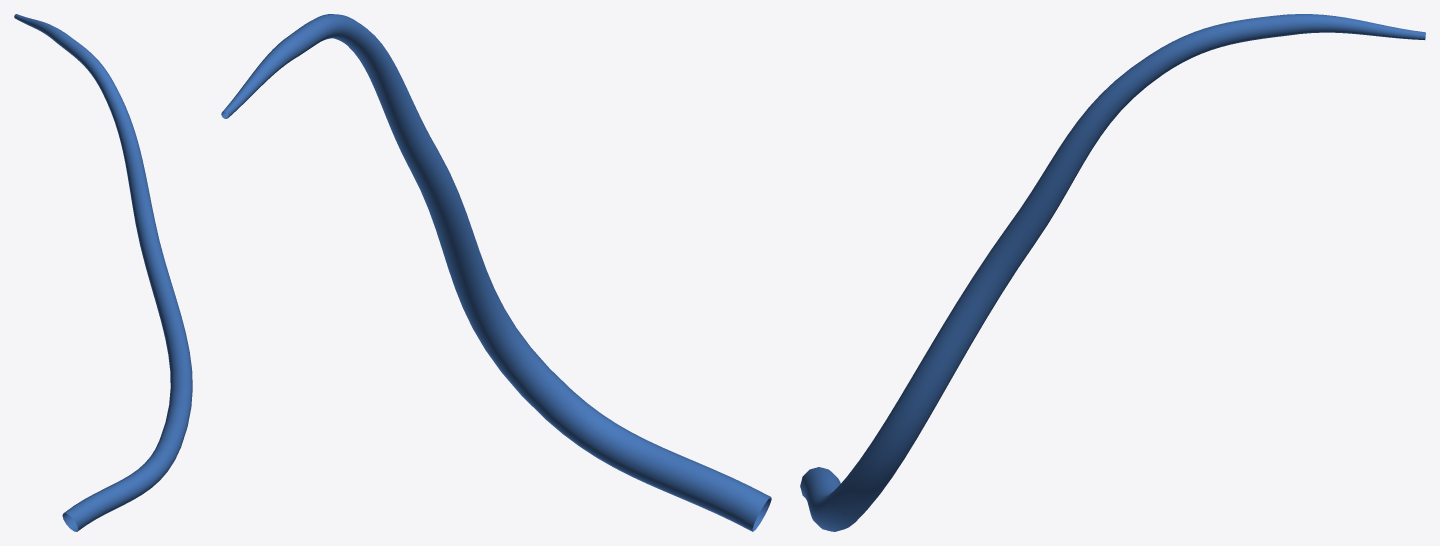
3 views of the same model, side by side, from view 1: azimuth 30°, elevation 25°; view 2: azimuth 150°, elevation 25°; view 3: azimuth 270°, elevation 25° (orthographic). The views are drawn at different scales.
Visible parts, largest first — view 1: 右侧骶外侧静脉; view 2: 右侧骶外侧静脉; view 3: 右侧骶外侧静脉.
Boxes of the visible parts, x1,y1,x2,y2 form: 右侧骶外侧静脉: [14, 14, 192, 531]; 右侧骶外侧静脉: [221, 14, 771, 531]; 右侧骶外侧静脉: [800, 14, 1425, 531].
Size of the model in its own units: 0.0311 by 0.0708 by 0.0676.
